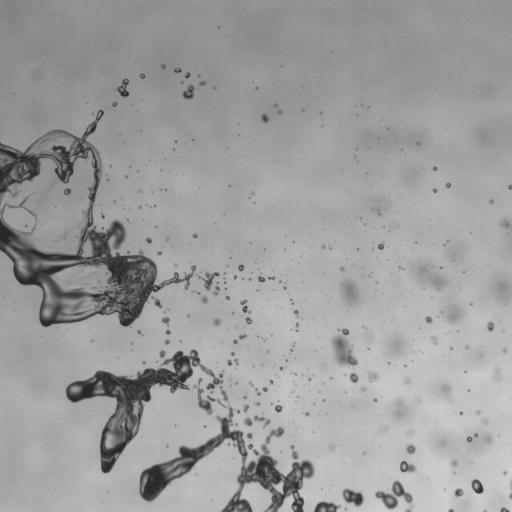droplet: (374, 480, 413, 511), (197, 272, 219, 290), (339, 279, 357, 300), (342, 488, 363, 506), (116, 78, 128, 97), (431, 274, 445, 290), (400, 461, 416, 473), (471, 479, 483, 494), (182, 85, 194, 99), (349, 372, 358, 382), (368, 372, 378, 381), (406, 444, 415, 454), (454, 488, 463, 497), (442, 384, 450, 394), (161, 317, 169, 326), (484, 434, 492, 443), (487, 322, 494, 331), (261, 114, 268, 122), (450, 314, 458, 321), (213, 318, 220, 326), (213, 286, 219, 295), (63, 188, 70, 195), (201, 296, 208, 303), (425, 316, 432, 323), (275, 405, 282, 412), (501, 221, 509, 227), (243, 404, 249, 412), (378, 242, 384, 249), (238, 264, 244, 271), (258, 276, 265, 282), (245, 317, 251, 324), (450, 460, 457, 466), (246, 433, 252, 439), (239, 334, 246, 339), (431, 336, 436, 343), (61, 233, 66, 239), (146, 237, 151, 243), (466, 436, 471, 442), (174, 68, 181, 72), (165, 329, 170, 334), (185, 72, 189, 77), (140, 74, 145, 78), (200, 81, 205, 85), (294, 310, 298, 315), (165, 339, 169, 344), (233, 339, 237, 344), (234, 359, 238, 364), (227, 360, 231, 365), (405, 379, 410, 383), (262, 387, 267, 391), (360, 387, 365, 391), (255, 389, 259, 394), (304, 412, 309, 416), (483, 419, 487, 424), (329, 445, 334, 449), (268, 276, 274, 279), (161, 64, 165, 68), (112, 102, 116, 106), (433, 166, 437, 170), (446, 183, 450, 187), (157, 251, 161, 255), (340, 267, 344, 271), (459, 411, 463, 415), (476, 410, 480, 414), (474, 433, 478, 437), (290, 299, 293, 304), (508, 185, 511, 189), (433, 188, 436, 192), (490, 199, 493, 203), (101, 213, 104, 217), (67, 280, 70, 284), (495, 370, 498, 374), (270, 380, 273, 384), (249, 382, 252, 386), (255, 402, 259, 405), (279, 367, 284, 369), (377, 211, 380, 214), (193, 234, 196, 237), (322, 245, 325, 248), (399, 266, 402, 269), (226, 296, 229, 299), (503, 349, 506, 352), (231, 352, 234, 355), (308, 377, 311, 380), (243, 395, 246, 398), (374, 398, 377, 401), (503, 471, 506, 474), (234, 275, 236, 278), (137, 331, 140, 333), (465, 346, 468, 348), (398, 402, 401, 404), (383, 428, 385, 431), (279, 110, 281, 112), (252, 192, 254, 194), (175, 264, 177, 266), (249, 278, 251, 280), (283, 287, 285, 289), (470, 303, 472, 305), (285, 359, 287, 361), (408, 431, 410, 433)
ligament: (0, 110, 196, 327), (66, 349, 313, 511), (331, 328, 357, 367), (243, 415, 270, 427), (313, 501, 340, 511), (16, 196, 28, 207), (240, 300, 250, 313), (82, 271, 96, 279), (27, 209, 37, 218), (509, 479, 511, 499), (500, 507, 509, 511), (6, 204, 14, 207), (295, 323, 298, 331), (448, 509, 454, 511), (483, 510, 486, 511)
